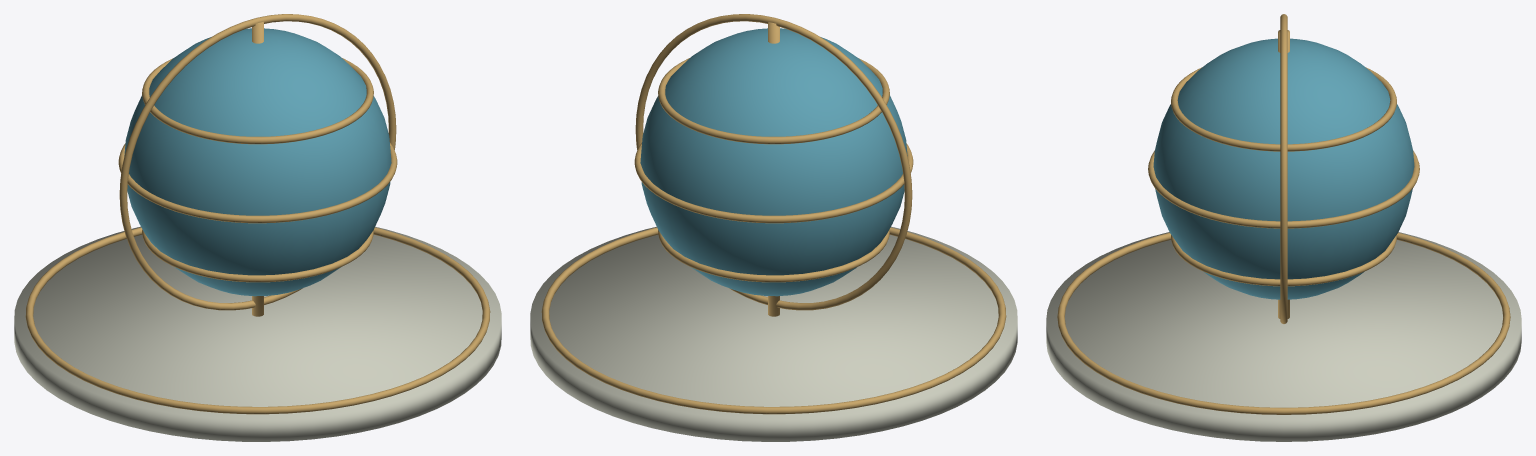
File: social.glb
3 views of the same model, side by side, from view 1: azimuth 30°, elevation 25°; view 2: azimuth 150°, elevation 25°; view 3: azimuth 270°, elevation 25° (orthographic). The views are drawn at different scales.
Visible parts, largest first — view 1: Limestone plinth, Earth ocean, Brass inlay, Meridian, Latitude.001, Latitude.002, Latitude, Axis; view 2: Limestone plinth, Earth ocean, Brass inlay, Meridian, Latitude.001, Latitude.002, Latitude, Axis; view 3: Limestone plinth, Earth ocean, Brass inlay, Latitude.001, Meridian, Latitude.002, Latitude.
Part boxes in pixels (x1=…): Limestone plinth: x1=14, y1=226, x2=501, y2=441; Earth ocean: x1=124, y1=28, x2=391, y2=296; Brass inlay: x1=25, y1=227, x2=490, y2=414; Meridian: x1=119, y1=14, x2=396, y2=310; Latitude.001: x1=118, y1=143, x2=397, y2=223; Latitude.002: x1=142, y1=58, x2=373, y2=144; Latitude: x1=142, y1=229, x2=373, y2=282; Axis: x1=252, y1=21, x2=263, y2=316; Limestone plinth: x1=530, y1=226, x2=1017, y2=441; Earth ocean: x1=640, y1=28, x2=907, y2=296; Brass inlay: x1=541, y1=227, x2=1006, y2=414; Meridian: x1=635, y1=14, x2=912, y2=310; Latitude.001: x1=634, y1=143, x2=913, y2=223; Latitude.002: x1=658, y1=58, x2=889, y2=144; Latitude: x1=658, y1=229, x2=889, y2=282; Axis: x1=768, y1=21, x2=779, y2=316; Limestone plinth: x1=1046, y1=232, x2=1521, y2=441; Earth ocean: x1=1153, y1=38, x2=1414, y2=299; Brass inlay: x1=1057, y1=232, x2=1510, y2=414; Latitude.001: x1=1148, y1=150, x2=1419, y2=228; Meridian: x1=1280, y1=14, x2=1287, y2=323; Latitude.002: x1=1171, y1=67, x2=1396, y2=151; Latitude: x1=1171, y1=235, x2=1396, y2=286.
Bounding box in the file's own units: 3.2 × 2.32 × 3.2.
